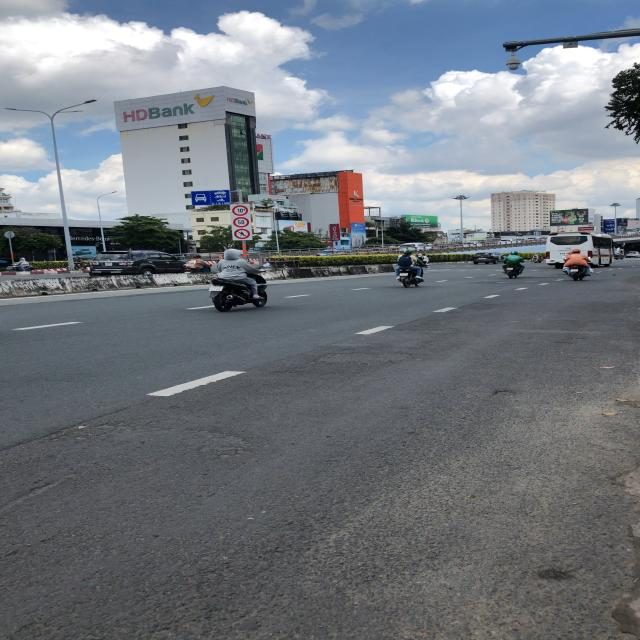Bien bao cam nguoi di bo: (232, 228, 252, 240)
Bien bao toc do toi da cho phep: (231, 216, 252, 228)
